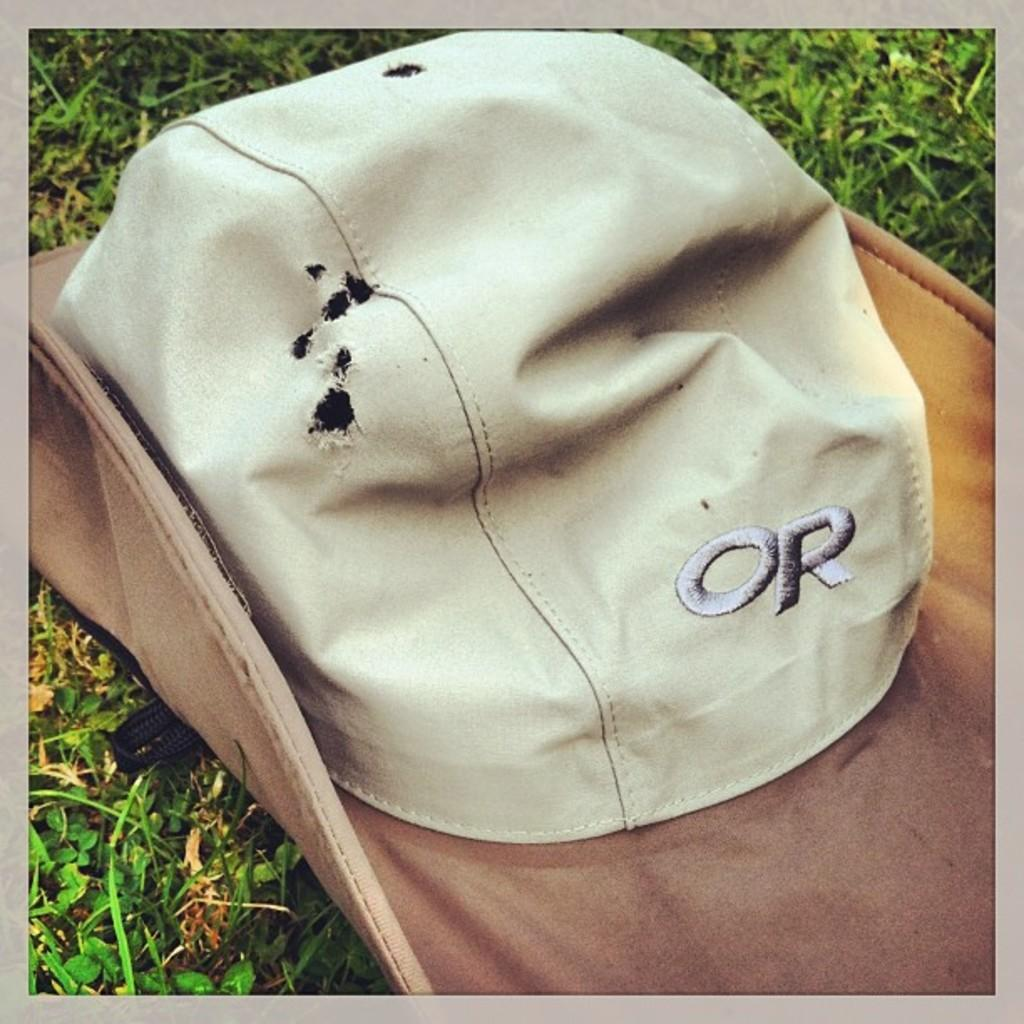Hat: (28, 30, 995, 996)
